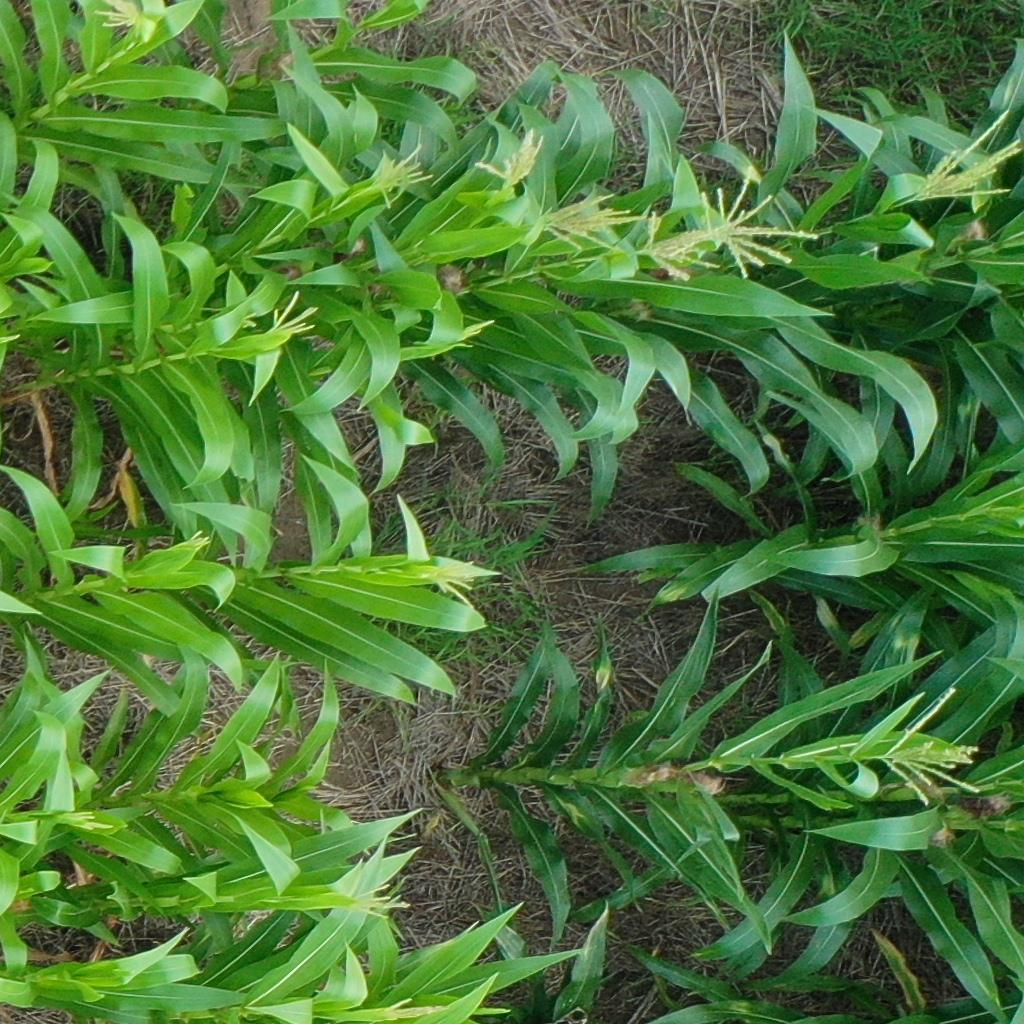Tassel: (701, 167, 819, 277), (883, 686, 983, 807), (916, 108, 1021, 205), (532, 192, 649, 252), (640, 210, 723, 283), (373, 143, 435, 213), (474, 128, 545, 188), (422, 557, 479, 613), (269, 291, 321, 339), (349, 883, 412, 920), (381, 997, 446, 1024), (56, 811, 113, 836), (94, 9, 138, 32), (460, 320, 496, 344), (189, 529, 211, 554), (241, 314, 259, 330)
